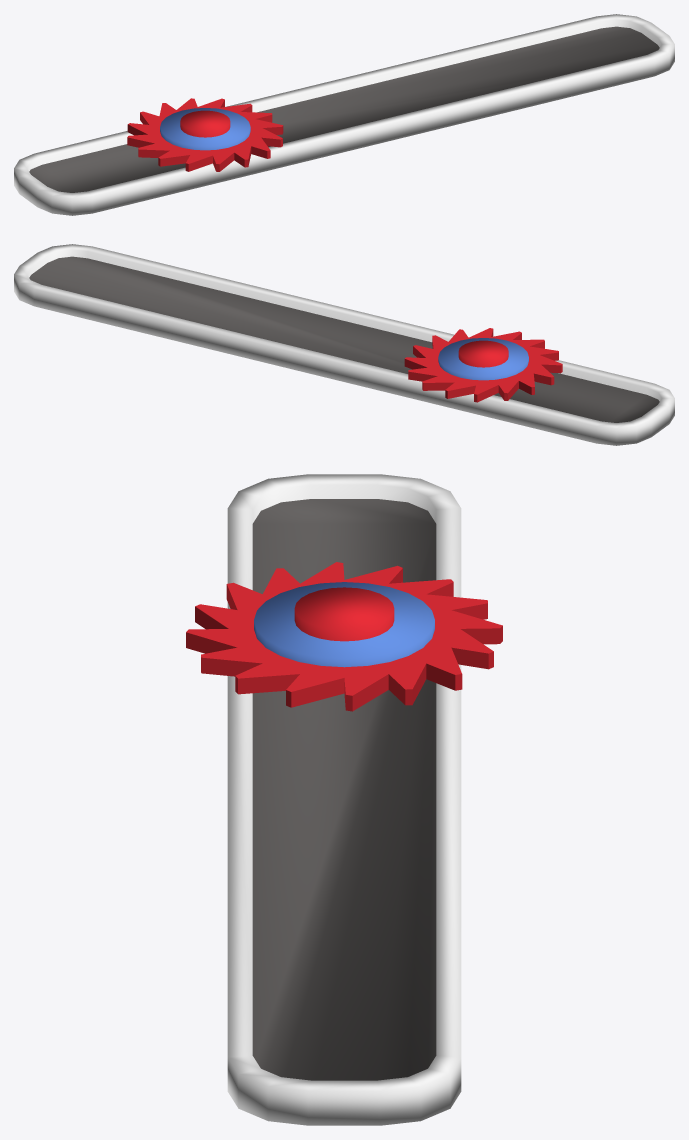
Rendered from Obstacle 3 V1.fbx.
3 views of the same model, one above another, from view 1: azimuth 30°, elevation 25°; view 2: azimuth 150°, elevation 25°; view 3: azimuth 270°, elevation 25° (orthographic). The views are drawn at different scales.
Parts seen in each view (by area): view 1: O3 Part 2, O3 Part 1; view 2: O3 Part 2, O3 Part 1; view 3: O3 Part 2, O3 Part 1.
Part boxes in pixels (x1=…): O3 Part 2: x1=14, y1=14, x2=674, y2=215; O3 Part 1: x1=127, y1=98, x2=283, y2=171; O3 Part 2: x1=14, y1=244, x2=674, y2=445; O3 Part 1: x1=404, y1=328, x2=562, y2=402; O3 Part 2: x1=227, y1=474, x2=461, y2=1125; O3 Part 1: x1=186, y1=562, x2=502, y2=711.
Size of the model in its own units: 281 by 15.5 by 61.04.
Materials: 1 (1 with a texture image).
